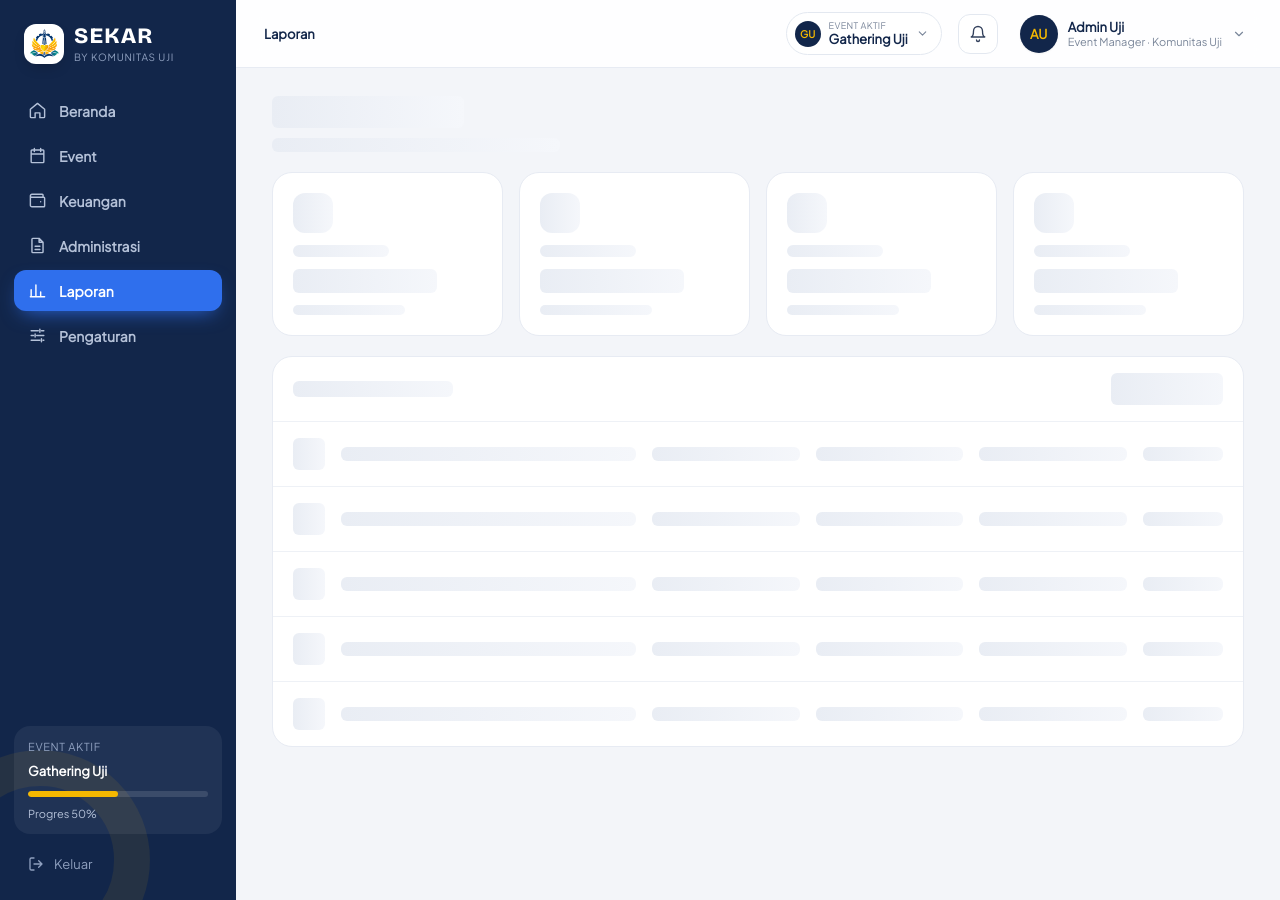
Test: sesi › setelah Keluar, pengguna berikutnya mendarat di beranda — bukan halaman sesi sebelumnya
Click the button "Keluar": click(118, 864) x1=14 y1=846 x2=222 y2=882
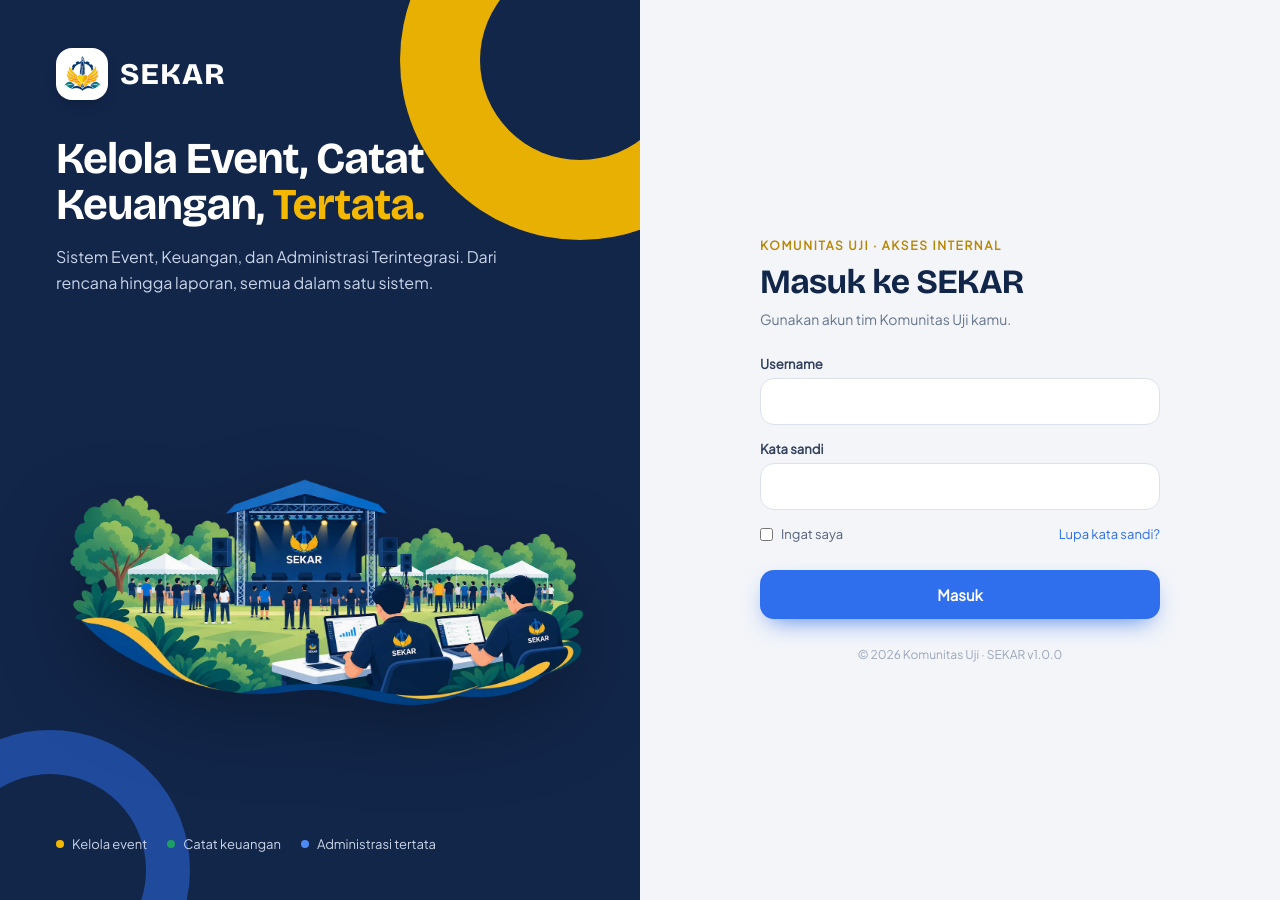
In the field labelled "Username": (960, 402) x1=760 y1=378 x2=1160 y2=425, type "peninjau"
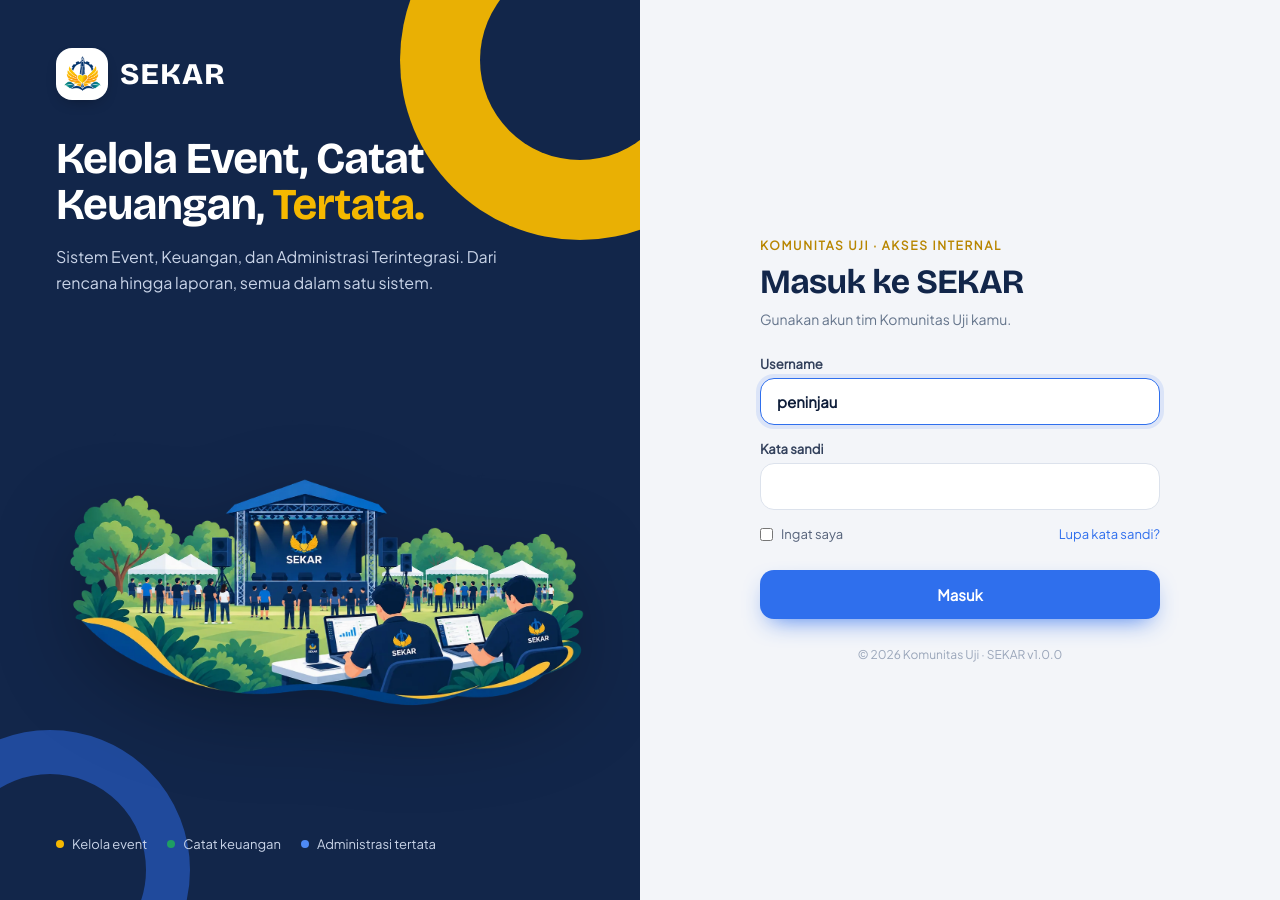
In the password field labelled "Kata sandi": (960, 486) x1=760 y1=463 x2=1160 y2=510, type "sandi-uji-123"
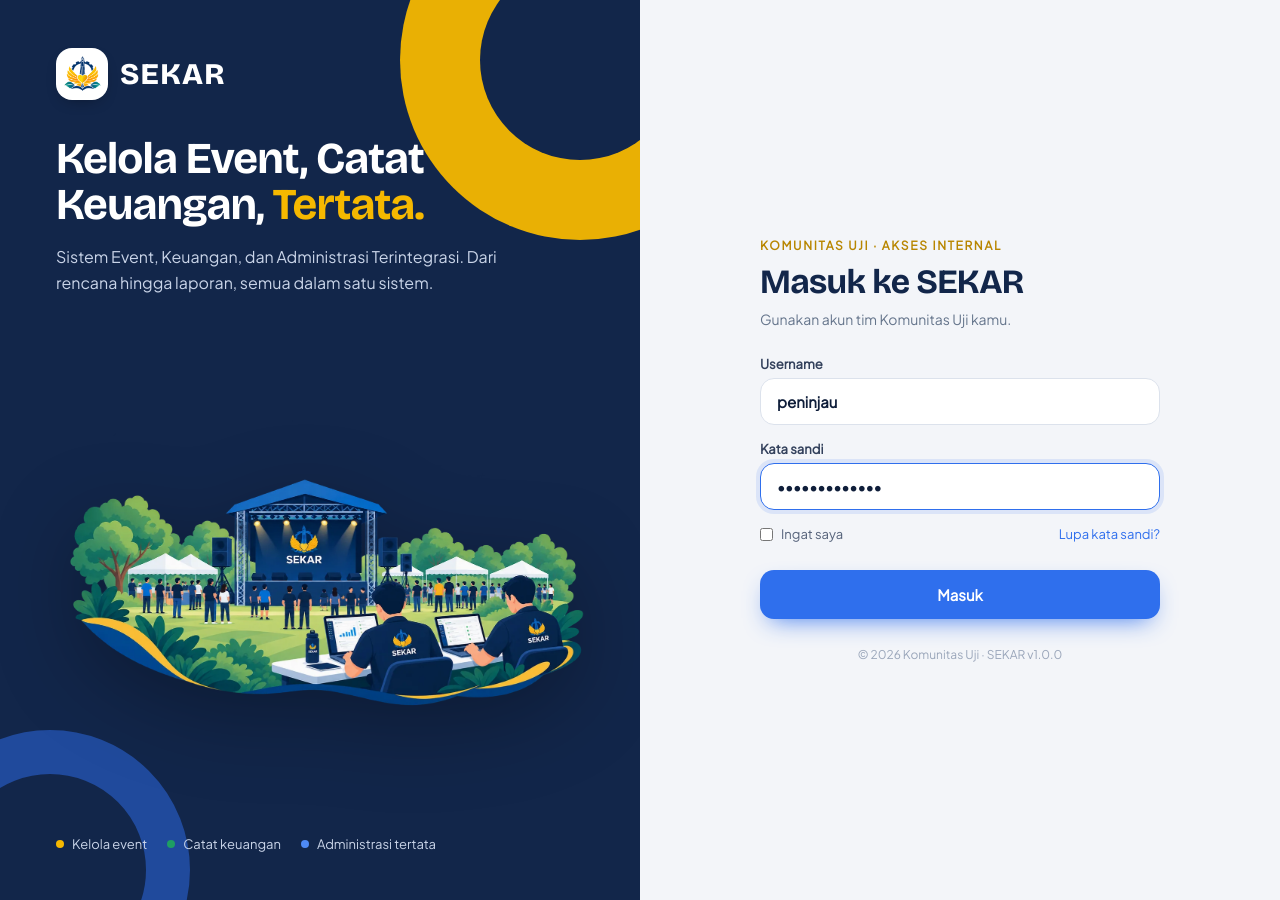
Click the button "Masuk": click(960, 594) x1=760 y1=570 x2=1160 y2=619
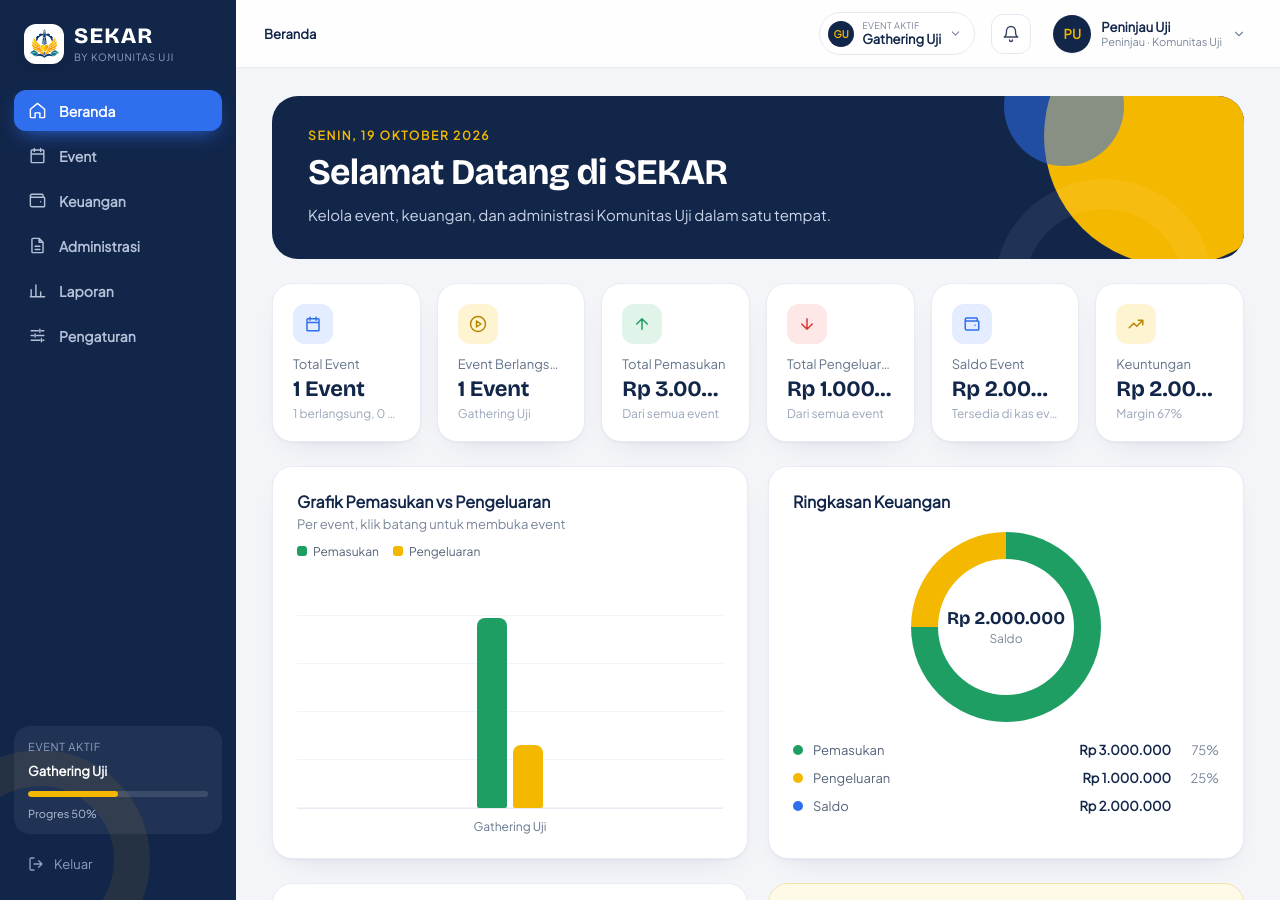
Expected: the heading "Selamat Datang di SEKAR" is shown, x1=308 y1=151 x2=727 y2=194
